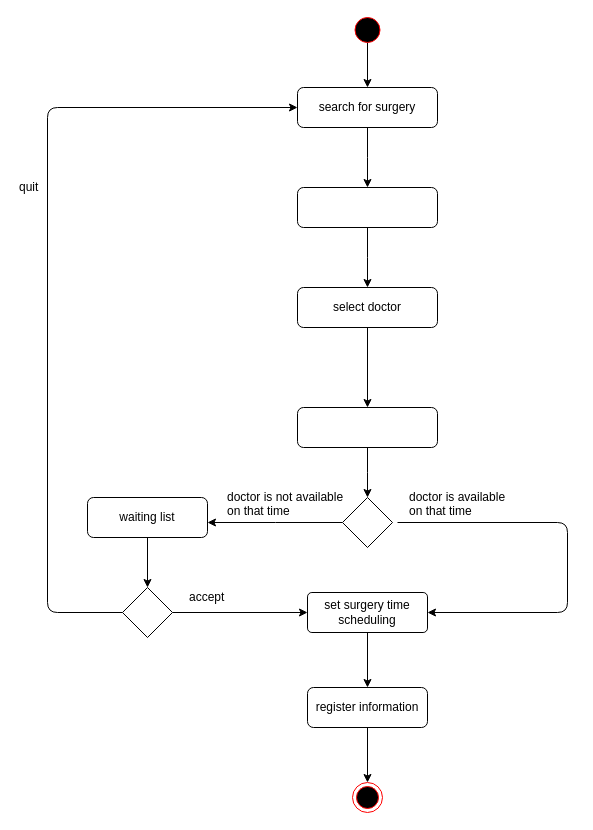
Image size: 593x830. Some labels were removed from this diagram. The centre of each missing label's shape, as x and y in pixels:
select surgery: the point at 367,207
suggest a time interval by patient: the point at 367,427
